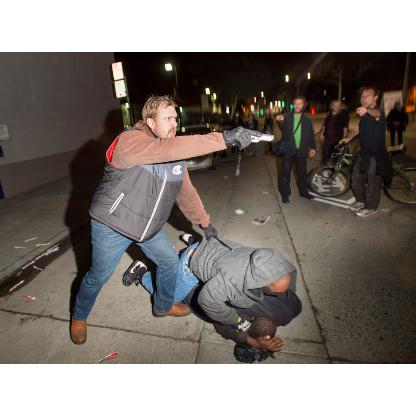gun: (228, 127, 274, 151)
